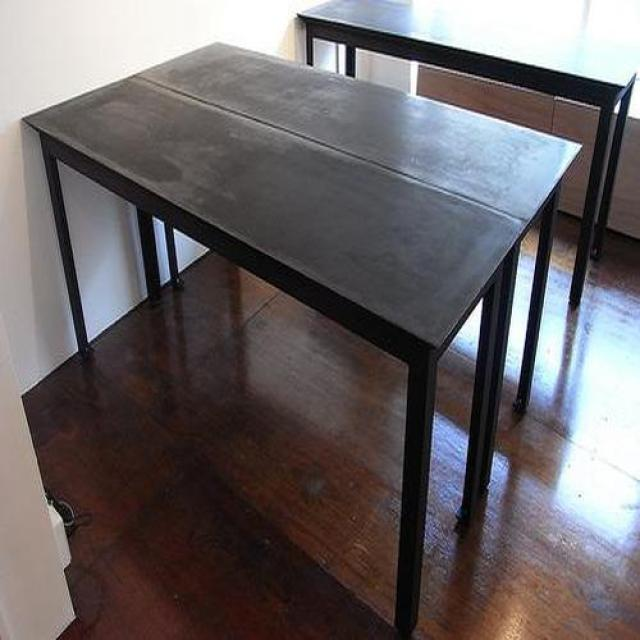table: (23, 44, 581, 640)
